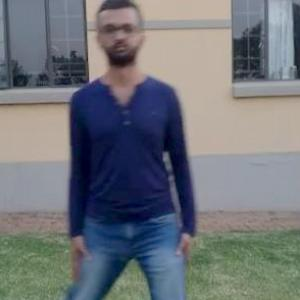follow: (86, 9, 200, 299)
